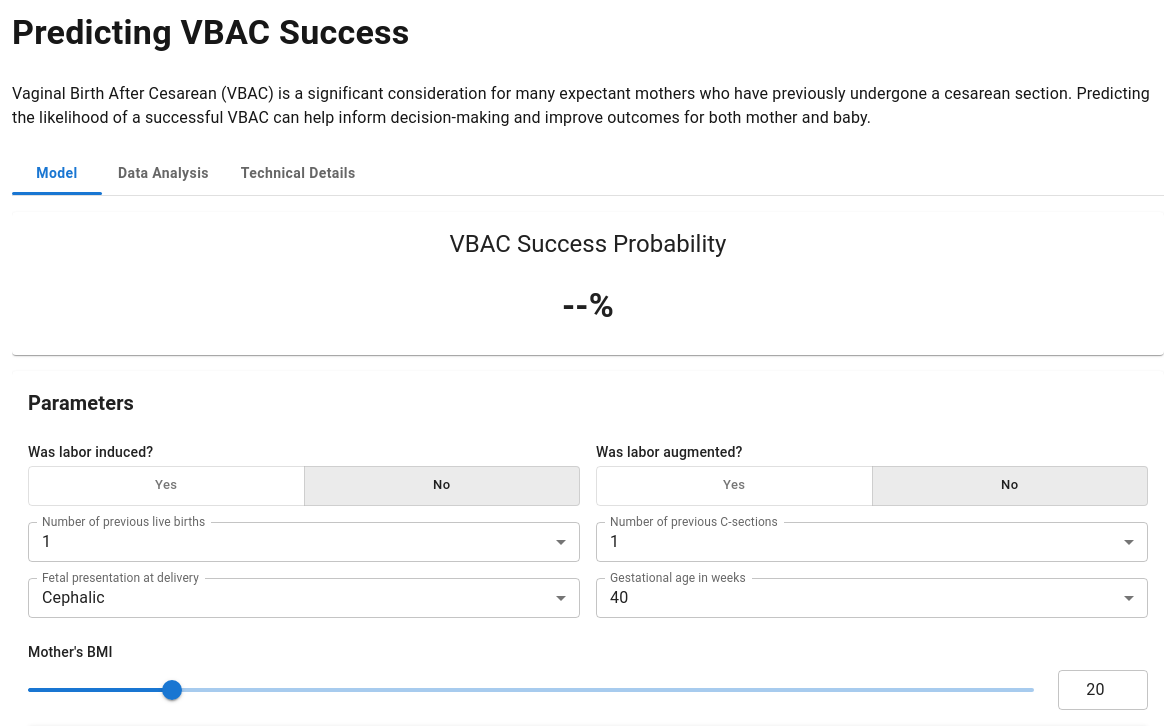
Test: VBAC page › switching to Technical Details shows technical content
The width and height of the screenshot is (1164, 726).
What coordinates should you click on to do the following:
click the tab "Technical Details"
I would click on:
 (298, 174)
Its box is [225, 152, 372, 196].
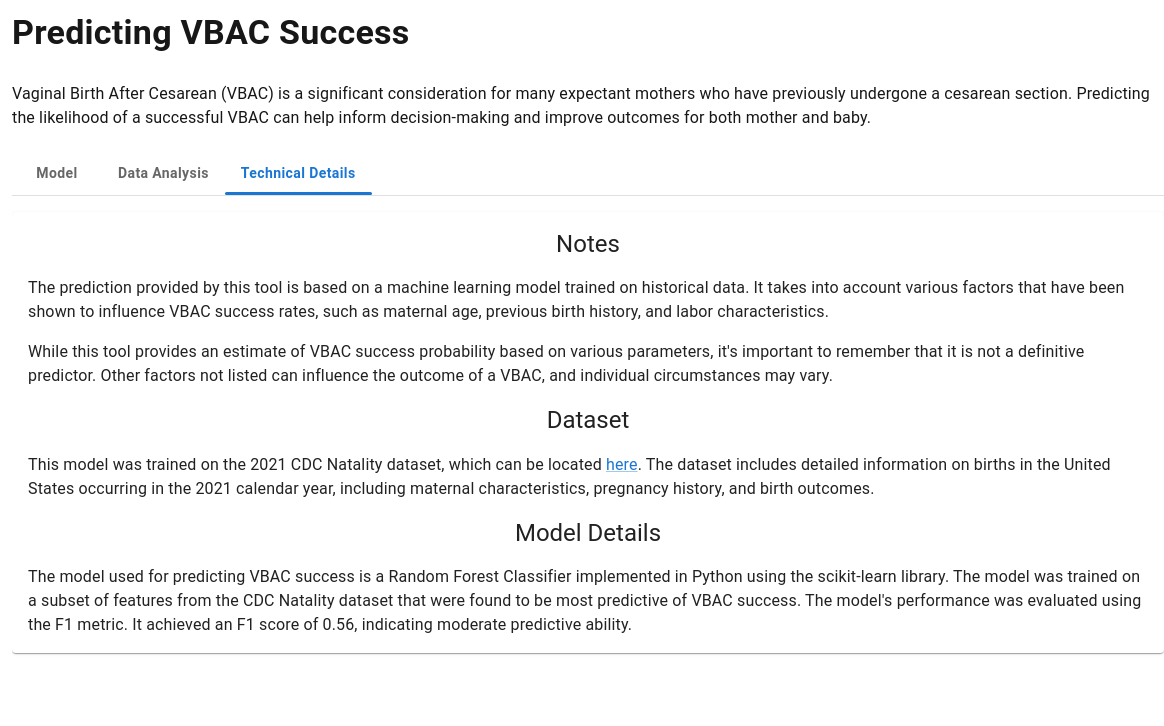
expect the heading "Notes" is shown: met, box [556, 228, 620, 260]
expect the heading "Dataset" is shown: met, box [547, 404, 629, 436]
expect the heading "Model Details" is shown: met, box [515, 516, 661, 548]
